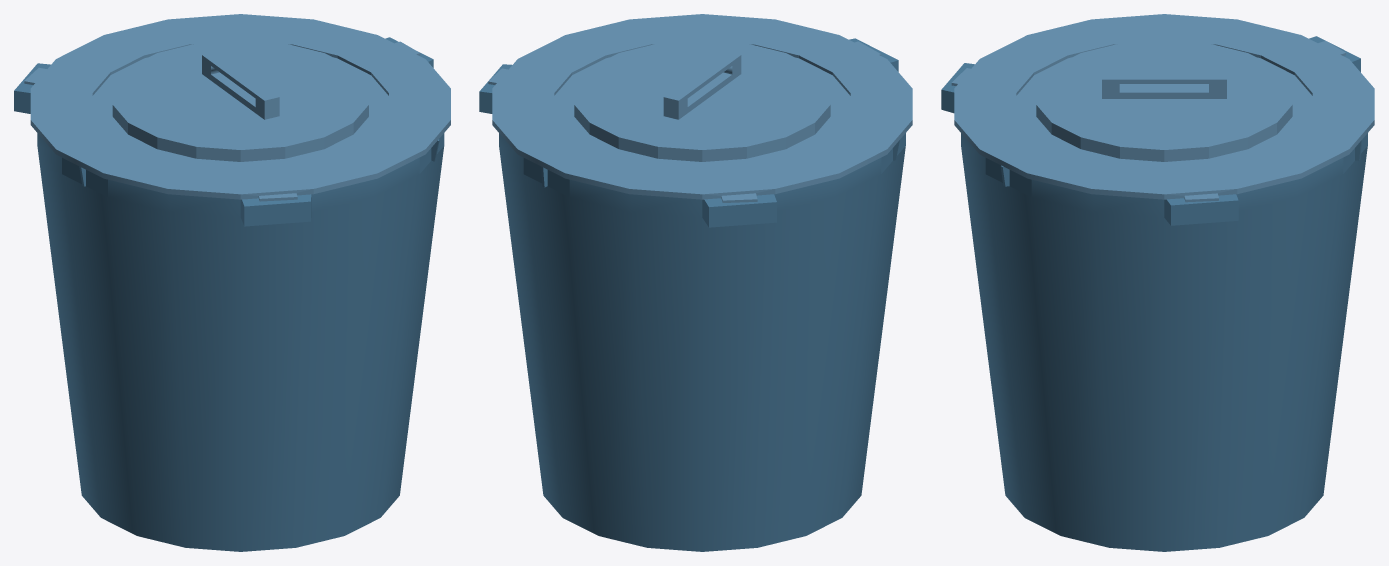
Rendered from gomibako.fbx.
The picture shows the model from 3 angles, left to right: view 1: azimuth 30°, elevation 25°; view 2: azimuth 150°, elevation 25°; view 3: azimuth 270°, elevation 25°; orthographic projection.
Parts seen in each view (by area): view 1: polySurface4; view 2: polySurface4; view 3: polySurface4.
Part boxes in pixels (<box>): polySurface4: <box>14,14,450,551</box>; polySurface4: <box>479,14,912,551</box>; polySurface4: <box>941,14,1374,551</box>.
Size of the model in its own units: 2.13 by 2.18 by 2.1.
